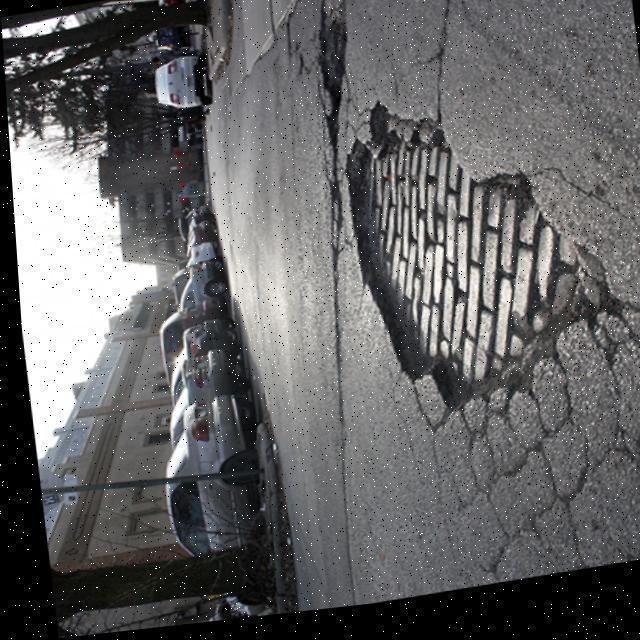Pothole: (343, 100, 629, 417), (318, 16, 345, 145)
